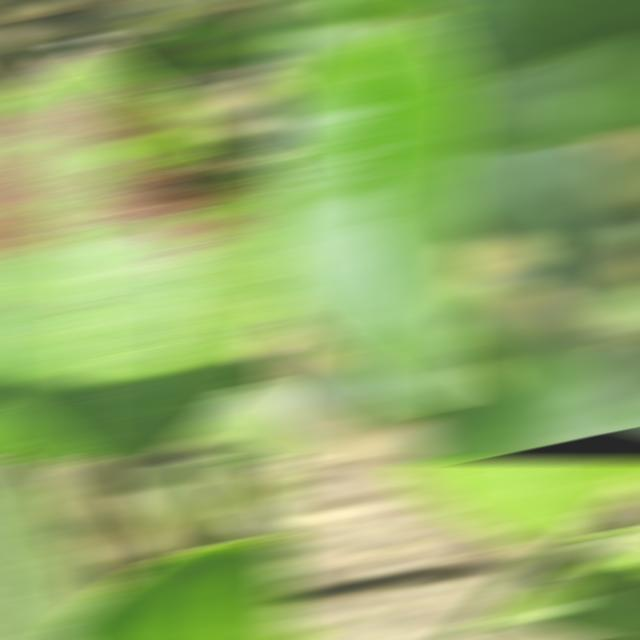Leaf: (0, 45, 292, 458), (270, 18, 479, 410), (430, 2, 640, 148), (48, 541, 292, 638), (388, 462, 640, 550), (0, 462, 97, 638), (444, 144, 602, 249), (487, 551, 640, 638), (494, 354, 640, 444), (187, 358, 292, 458), (539, 215, 632, 316), (118, 462, 217, 528), (146, 17, 292, 54), (124, 489, 208, 547), (191, 462, 283, 512)
